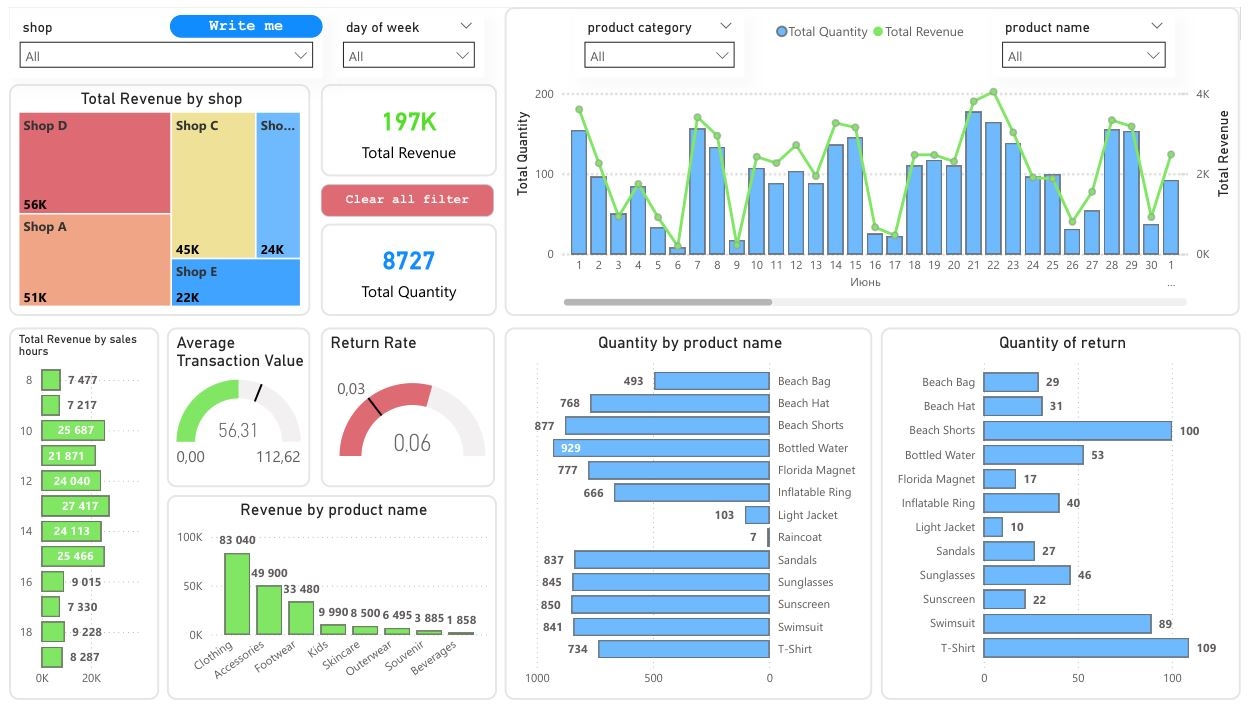

What the dashboard file says about the page in this screenshot:
{"tool":"powerbi","page":{"name":"Страница 1","canvas":[1280,720],"ordinal":0},"visuals":[{"type":"lineStackedColumnComboChart","title":"Total Quantity and Total Revenue","fields":{"Category":["sales.sale_date.Variation.Иерархия дат.Месяц","sales.sale_date.Variation.Иерархия дат.День"],"Y":["sales.Total Quantity"],"Y2":["sales.Total Revenue"]},"box":[515,0,763.8,321.2],"z":0},{"type":"card","fields":{"Values":["sales.Total Quantity"]},"box":[324.3,225,182.9,96.4],"z":1000},{"type":"card","fields":{"Values":["sales.Total Revenue"]},"box":[324.3,80,182.9,95.7],"z":2000},{"type":"treemap","fields":{"Group":["sales.shop"],"Values":["sales.Total Revenue"]},"box":[0,80,312.5,241.2],"z":3000},{"type":"barChart","title":"Quantity by product name","fields":{"Category":["sales.product name"],"Y":["sales.Total Quantity"]},"box":[515,333,382,387],"z":4000},{"type":"columnChart","title":"Revenue by product name","fields":{"Category":["sales.product category"],"Y":["sales.Total Revenue"]},"box":[164,507,343,213],"z":5000},{"type":"barChart","title":"Total Revenue by sales hours","fields":{"Y":["sales.Total Revenue"],"Category":["sales.sale_hour"]},"box":[0,333,156,387],"z":6000},{"type":"slicer","fields":{"Values":["sales.shop"]},"box":[1,8,325,66],"z":7000},{"type":"slicer","fields":{"Values":["sales.day_of_week_name"]},"box":[337,8,157,65],"z":8000},{"type":"slicer","fields":{"Values":["sales.product category"]},"box":[588,8,176,65],"z":9000},{"type":"slicer","fields":{"Values":["sales.product name"]},"box":[1022,8,190,65],"z":10000},{"type":"gauge","fields":{"Y":["sales.Return Rate"]},"box":[323.6,332.9,181.4,166.4],"z":11000},{"type":"gauge","fields":{"Y":["sales.Average Transaction Value"]},"box":[164,333,149,166],"z":12000},{"type":"barChart","title":"Quantity of return","fields":{"Y":["Sum(sales.quantity)"],"Category":["sales.product name"]},"box":[906,333,374,387],"z":13000},{"type":"shape","title":"Clear filter","box":[324,184,180,34],"z":13001},{"type":"shape","box":[167.3,8.2,159.1,23.6],"z":13002}]}

Visuals, with their boxes in screenshot pixels (x1, y1, x2, y2), scaled from the page's 1280x720 canvas onto the 1248x705 screenshot:
"Total Quantity and Total Revenue" lineStackedColumnComboChart: x1=502 y1=0 x2=1247 y2=315
card - sales.Total Quantity: x1=316 y1=220 x2=495 y2=315
card - sales.Total Revenue: x1=316 y1=78 x2=495 y2=172
treemap - sales.shop x sales.Total Revenue: x1=0 y1=78 x2=305 y2=315
"Quantity by product name" barChart: x1=502 y1=326 x2=875 y2=704
"Revenue by product name" columnChart: x1=160 y1=496 x2=494 y2=704
"Total Revenue by sales hours" barChart: x1=0 y1=326 x2=152 y2=704
slicer - sales.shop: x1=1 y1=8 x2=318 y2=72
slicer - sales.day_of_week_name: x1=329 y1=8 x2=482 y2=71
slicer - sales.product category: x1=573 y1=8 x2=745 y2=71
slicer - sales.product name: x1=996 y1=8 x2=1182 y2=71
gauge - sales.Return Rate: x1=316 y1=326 x2=492 y2=489
gauge - sales.Average Transaction Value: x1=160 y1=326 x2=305 y2=489
"Quantity of return" barChart: x1=883 y1=326 x2=1247 y2=704
"Clear filter" shape: x1=316 y1=180 x2=491 y2=213
shape: x1=163 y1=8 x2=318 y2=31
